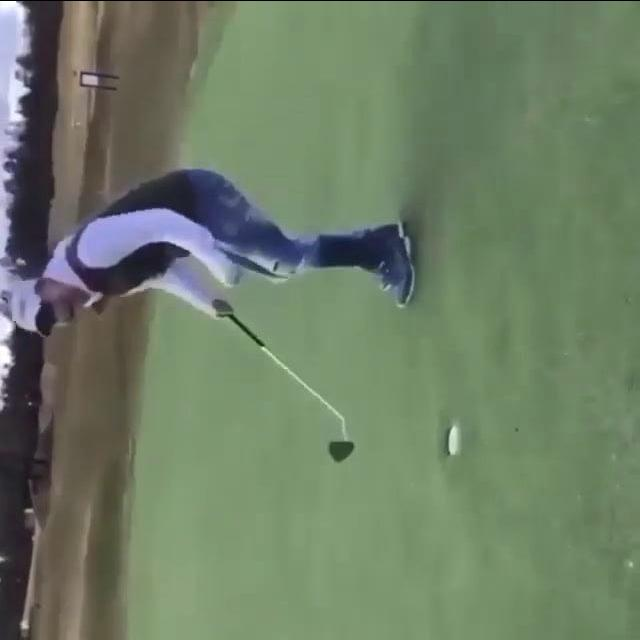golf club-handle: (219, 309, 361, 461)
golf club-head: (330, 437, 353, 458)
